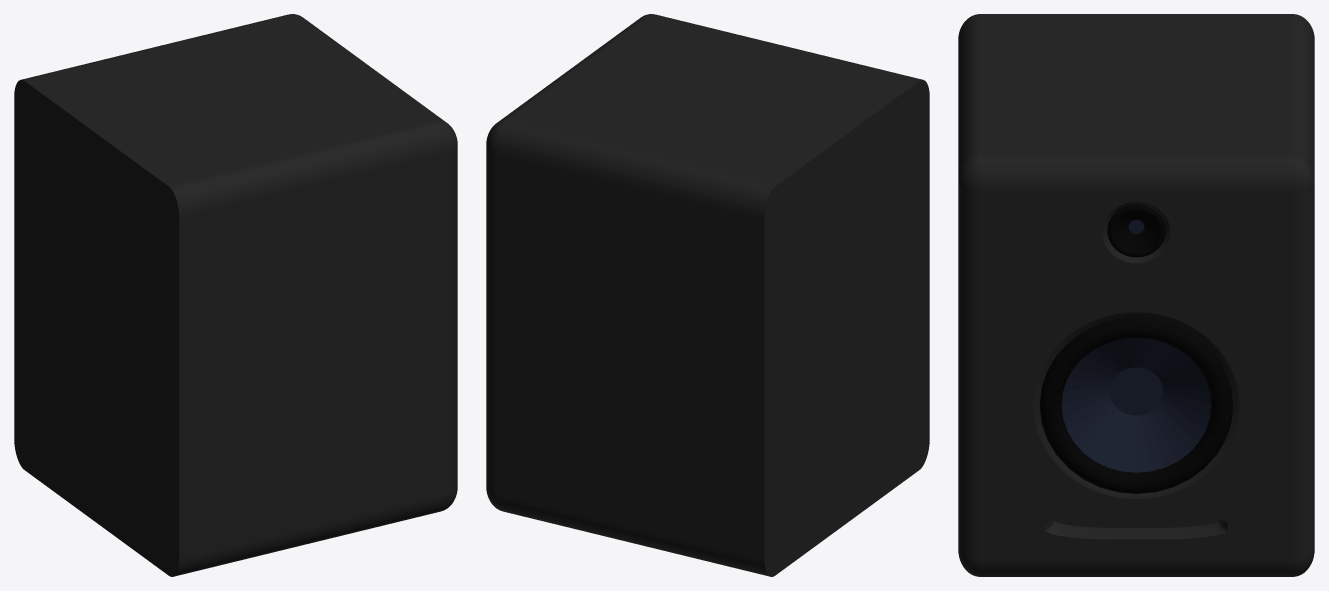
Rendered from speaker.glb.
3 views of the same model, side by side, from view 1: azimuth 30°, elevation 25°; view 2: azimuth 150°, elevation 25°; view 3: azimuth 270°, elevation 25° (orthographic). The views are drawn at different scales.
Visible parts, largest first — view 1: Cube; view 2: Cube; view 3: Cube, Circle, Circle.001.
Part boxes in pixels (x1,y1,x2,y2): Cube: (14, 14, 457, 576); Cube: (486, 14, 929, 576); Cube: (958, 14, 1314, 576); Circle: (1039, 317, 1233, 493); Circle.001: (1107, 204, 1165, 257).
Bounding box in the file's own units: 2.03 × 2.6 × 2.
